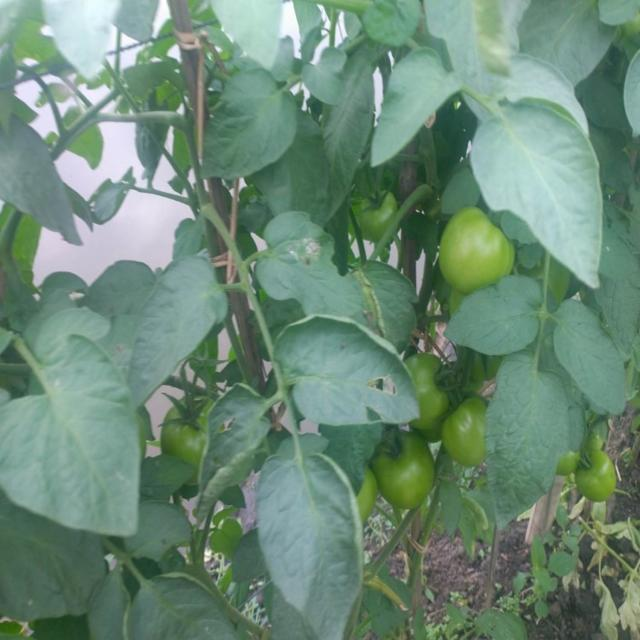tomato: (439, 208, 516, 292), (166, 394, 218, 479), (374, 434, 434, 507), (446, 397, 495, 463), (408, 353, 446, 433), (580, 452, 617, 500), (364, 195, 397, 241), (352, 468, 378, 513), (554, 453, 574, 476), (590, 432, 605, 449)
